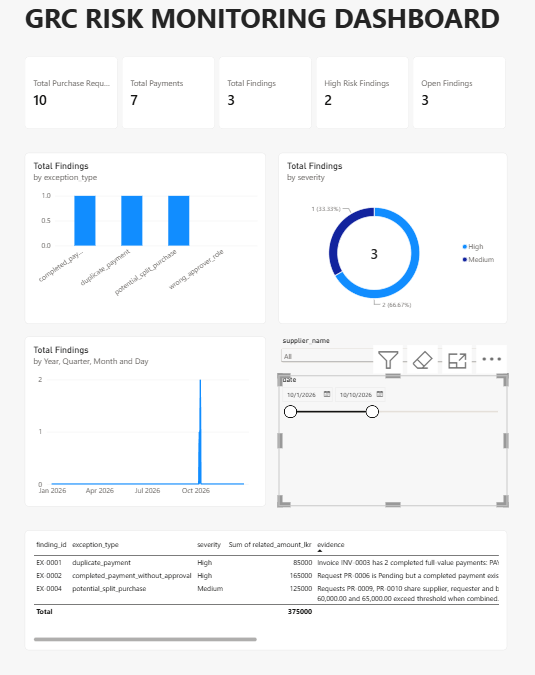

What the dashboard file says about the page in this screenshot:
{"tool":"powerbi","page":{"name":"Page 1","canvas":[1080,1920],"ordinal":0},"visuals":[{"type":"cardVisual","fields":{"Data":["DimDates.Total Purchase Requests","DimDates.Total Payments","DimDates.Total Findings","DimDates.High Risk Findings","DimDates.Open Findings"]},"box":[57.5,155,965,145],"z":0},{"type":"clusteredColumnChart","fields":{"Category":["FactExceptions.exception_type"],"Y":["DimDates.Total Findings"]},"box":[57.5,347.5,482.5,342.5],"z":1000},{"type":"donutChart","fields":{"Category":["FactExceptions.severity"],"Y":["DimDates.Total Findings"]},"box":[565,347.5,457.5,342.5],"z":2000},{"type":"lineChart","fields":{"Category":["DimDates.date.Variation.Date Hierarchy.Year","DimDates.date.Variation.Date Hierarchy.Quarter","DimDates.date.Variation.Date Hierarchy.Month","DimDates.date.Variation.Date Hierarchy.Day"],"Y":["DimDates.Total Findings"]},"box":[57.5,715,482.5,340],"z":3000},{"type":"tableEx","fields":{"Values":["FactExceptions.finding_id","FactExceptions.exception_type","FactExceptions.severity","Sum(FactExceptions.related_amount_lkr)","FactExceptions.evidence","FactExceptions.recommended_action","FactExceptions.event_date"]},"box":[57.5,1102.5,965,240],"z":4000},{"type":"actionButton","box":[0,0,100,40],"z":5000},{"type":"slicer","fields":{"Values":["DimSuppliers.supplier_name"]},"box":[565,715,457.5,72.5],"z":6000},{"type":"textbox","box":[57.5,40,965,77.5],"z":7000},{"type":"slicer","fields":{"Values":["DimDates.date"]},"box":[565,792.5,457.5,262.5],"z":8000}]}

Visuals, with their boxes on the page's 1080x1920 design canvas (x1, y1, x2, y2). These are canvas units, not pixel positions in the 535x675 screenshot, which may show the page scaled, cropped or inside an application window:
cardVisual - DimDates.Total Purchase Requests x DimDates.Total Payments: x1=58 y1=155 x2=1022 y2=300
clusteredColumnChart - FactExceptions.exception_type x DimDates.Total Findings: x1=58 y1=348 x2=540 y2=690
donutChart - FactExceptions.severity x DimDates.Total Findings: x1=565 y1=348 x2=1022 y2=690
lineChart - DimDates.date.Variation.Date Hierarchy.Year x DimDates.date.Variation.Date Hierarchy.Quarter: x1=58 y1=715 x2=540 y2=1055
tableEx - FactExceptions.finding_id x FactExceptions.exception_type: x1=58 y1=1102 x2=1022 y2=1342
actionButton: x1=0 y1=0 x2=100 y2=40
slicer - DimSuppliers.supplier_name: x1=565 y1=715 x2=1022 y2=788
textbox: x1=58 y1=40 x2=1022 y2=118
slicer - DimDates.date: x1=565 y1=792 x2=1022 y2=1055
